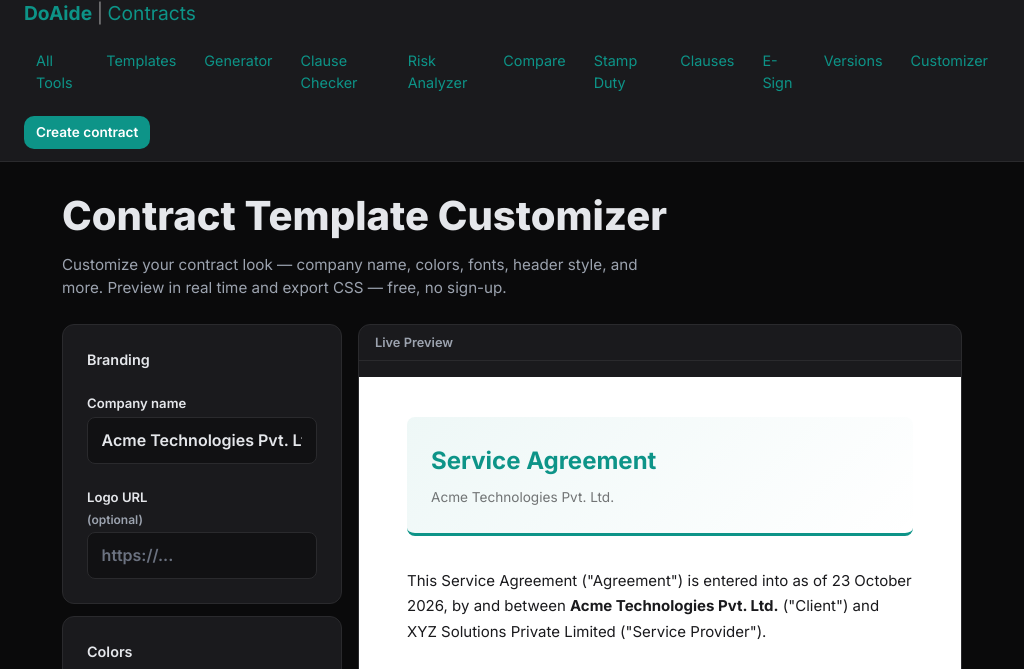
it: TemplateCustomizerPage › resets to defaults on Reset click
The width and height of the screenshot is (1024, 669).
Replace the text in the field showing "Acme Technologies Pvt. Ltd." with "Changed" at (202, 440), box [87,417,317,464]
(page scrolled)
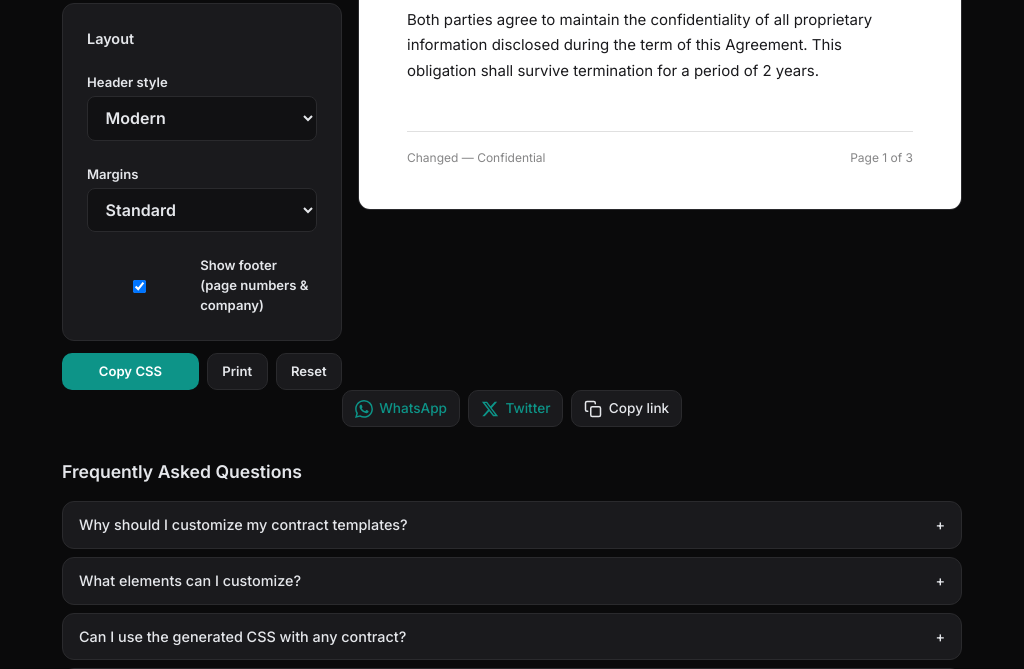
Click the button "Reset" at (309, 371), box [276,352,342,390]
(page scrolled)
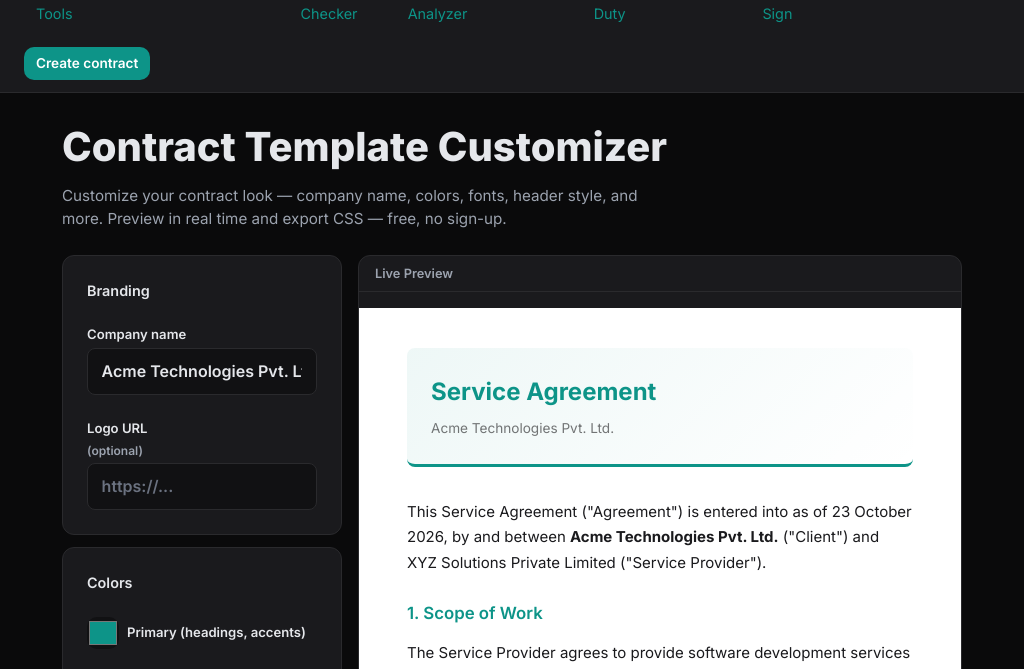
expect the field showing "Acme Technologies Pvt. Ltd." is shown: met, box [87,348,317,395]
